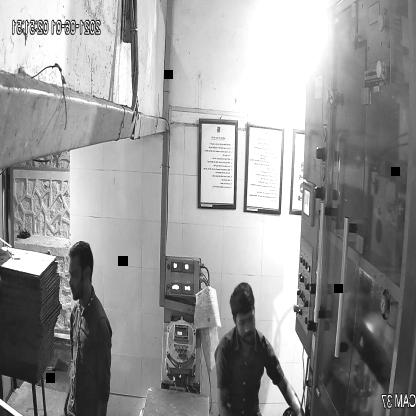no_goggles: (232, 304, 259, 331)
